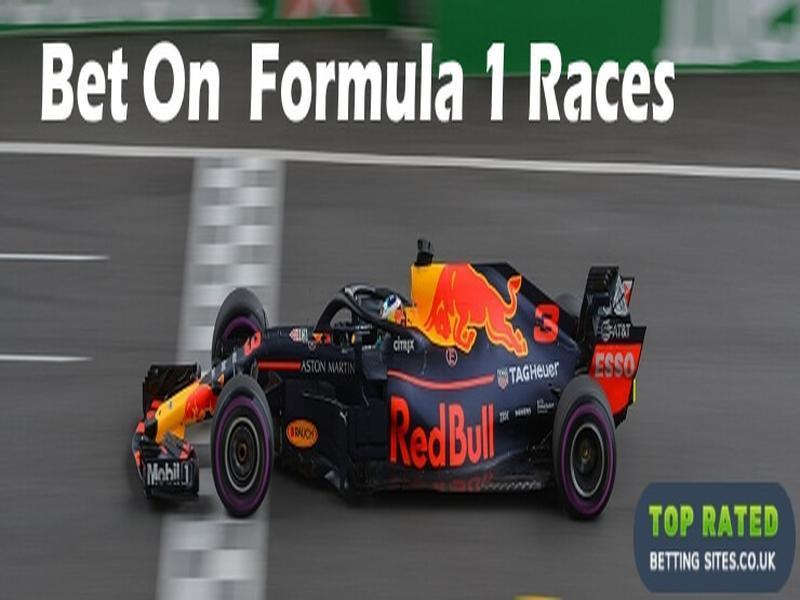f1: (125, 242, 635, 545)
